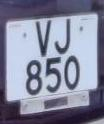0: (63, 54, 83, 96)
5: (42, 55, 65, 98)
8: (23, 58, 45, 100)
J: (52, 14, 77, 59)
V: (31, 17, 54, 59)
